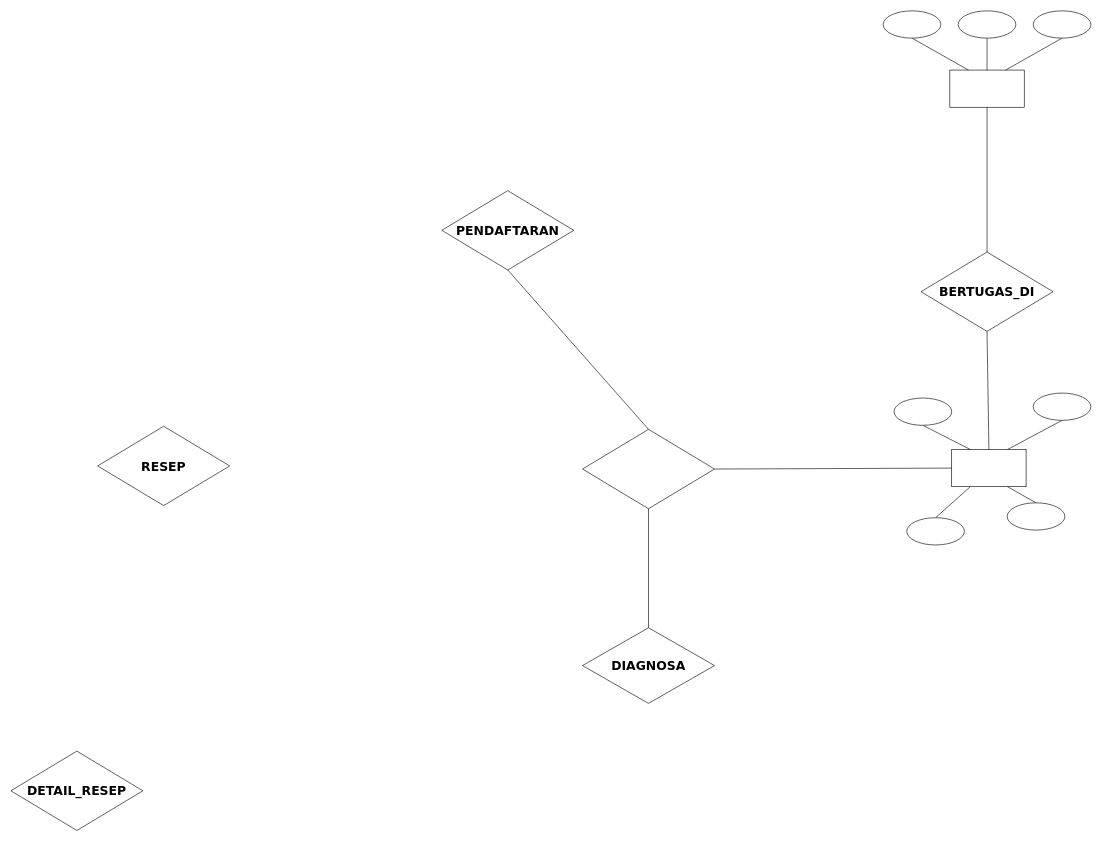
Some shapes in this 1102 by 841 pixel diagram are drawn without their labels. The centre of each missing label's shape, as x and y in pixels:
DOKTER: (988,468)
PEMERIKSAAN: (648,469)
POLI: (986,88)
